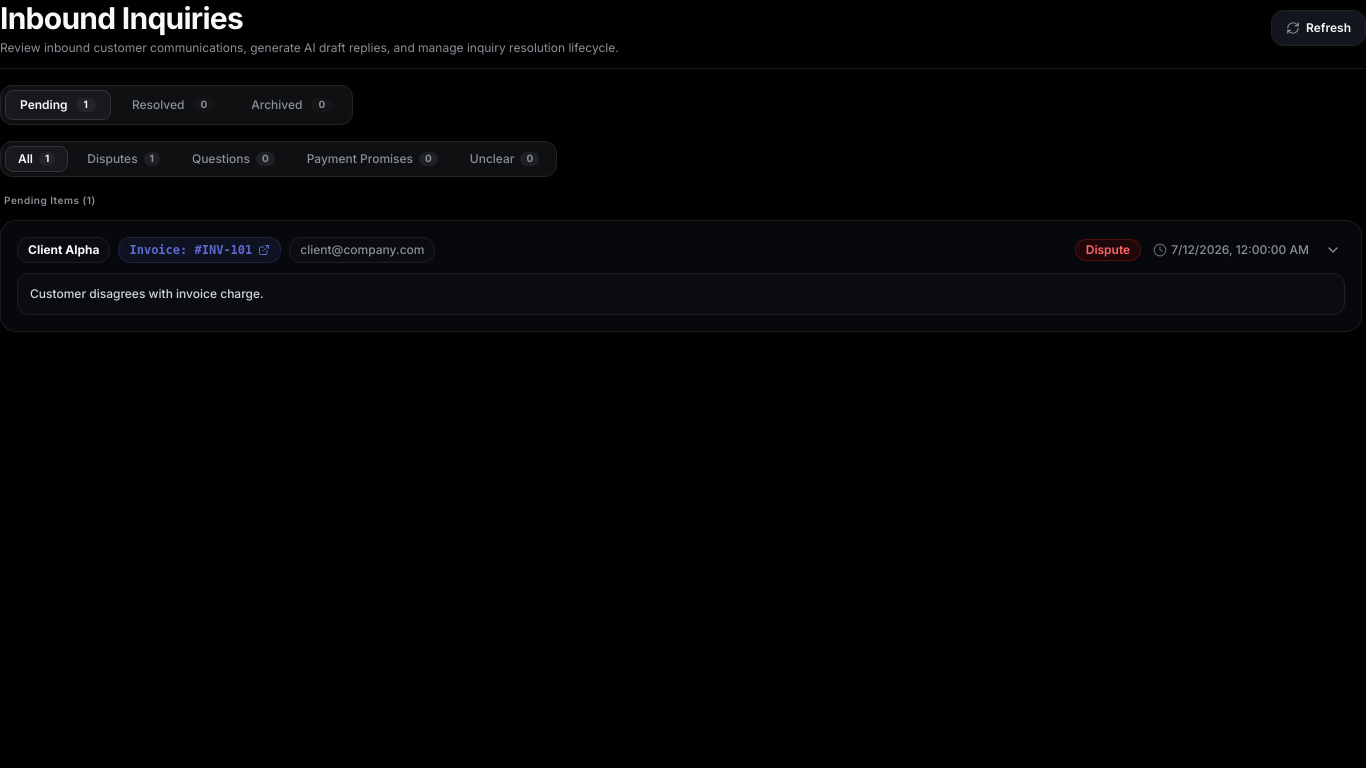
Test: Disputes page status tabs, navigation, and actions › renders status navigation tabs and expands details
Expected: the text "Pending" is shown, [20,97,68,113]
Expected: the text "Resolved" is shown, [132,97,184,113]
Click the text "client@company.com": {"x": 362, "y": 250} [289,237,436,263]
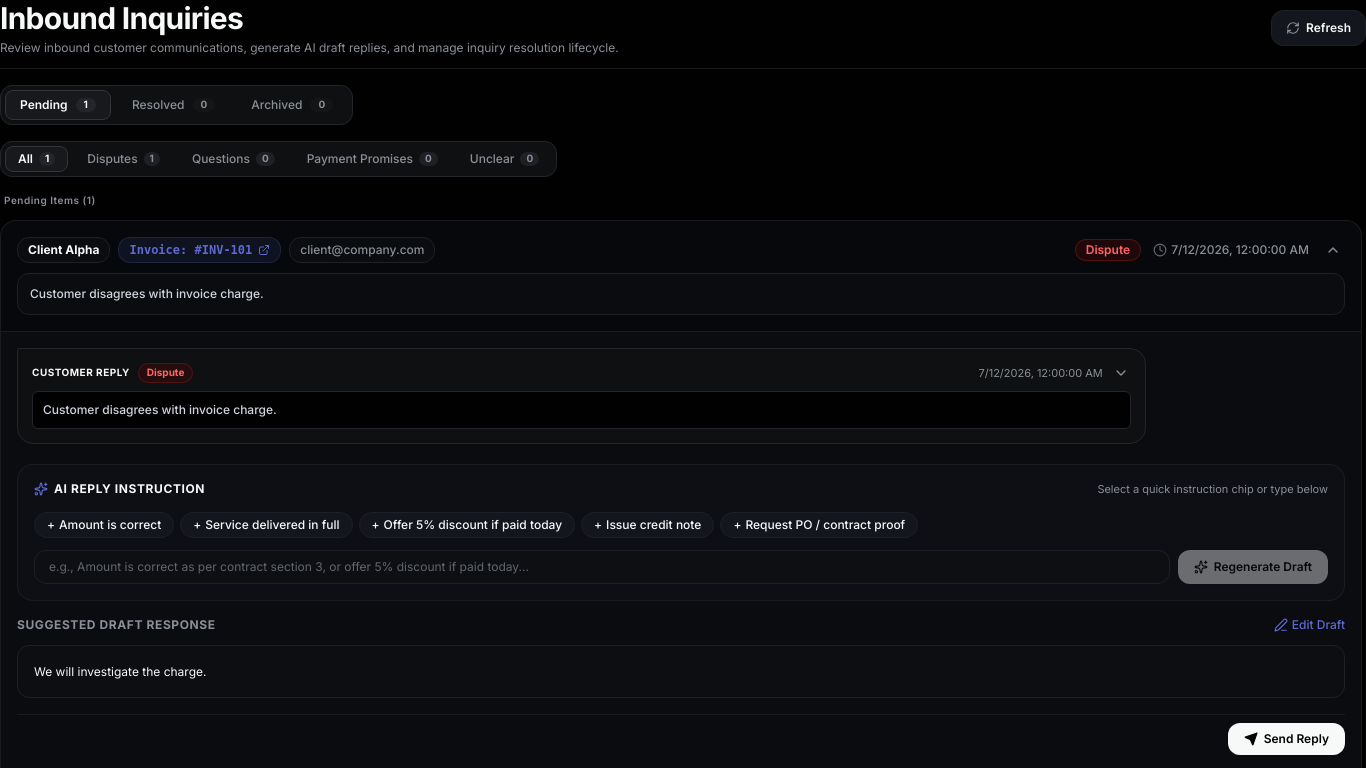
Now the text "We will investigate the charge." is shown, box [17,644,1345,698]
